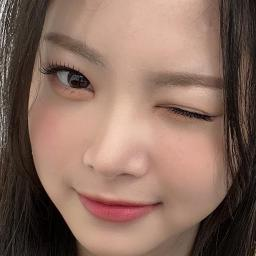summerCool: (30, 0, 226, 256)
